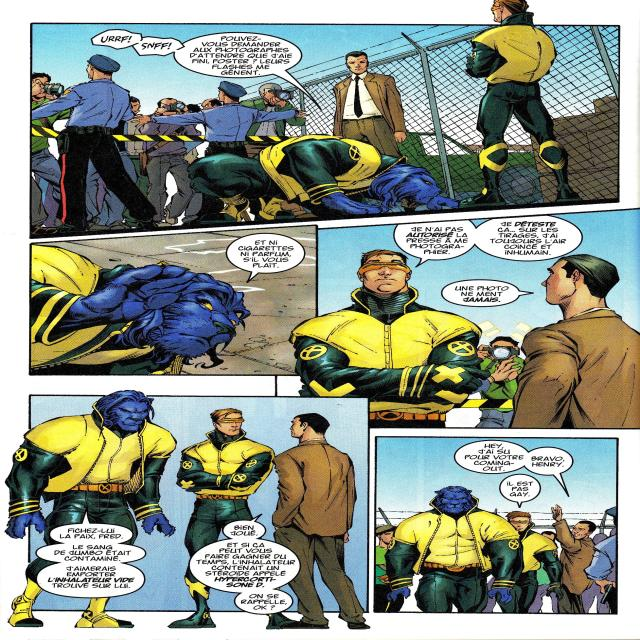comic_panel: (29, 0, 620, 240), (0, 390, 371, 629), (275, 208, 640, 429), (29, 224, 318, 377), (373, 436, 619, 615)
